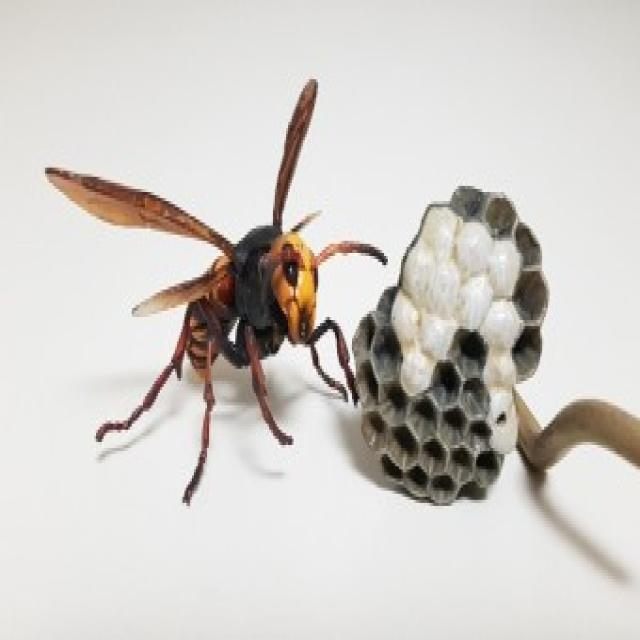Wasp: (20, 75, 370, 504)
